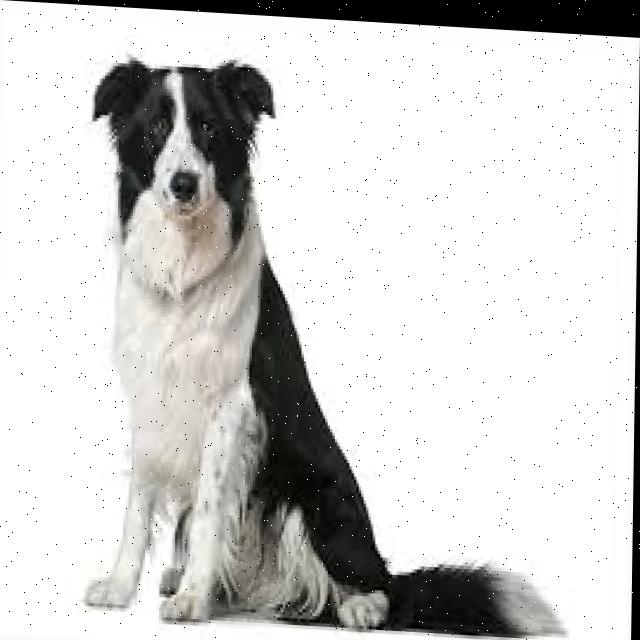BORDER_COLLIE: (62, 47, 581, 640)
